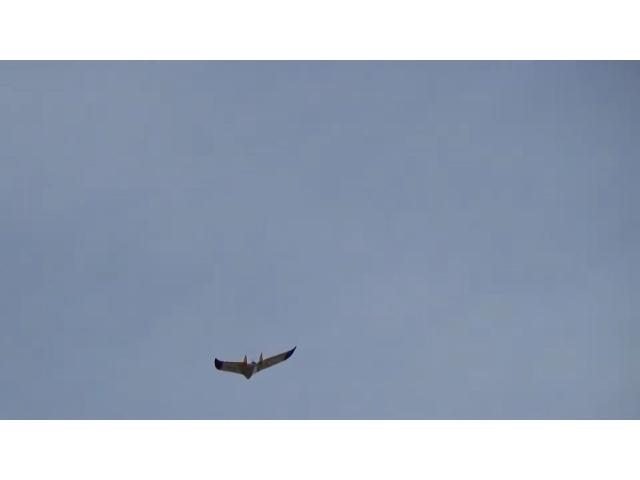Anti-Drone: (214, 347, 296, 379)
